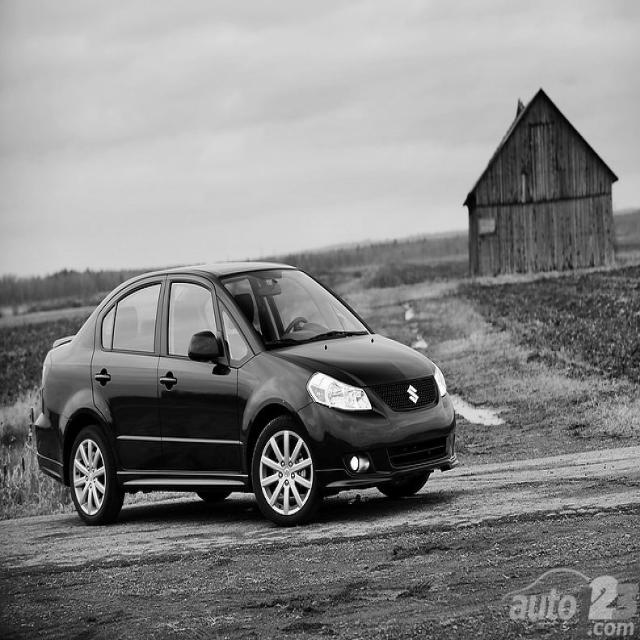car: (33, 260, 458, 526)
